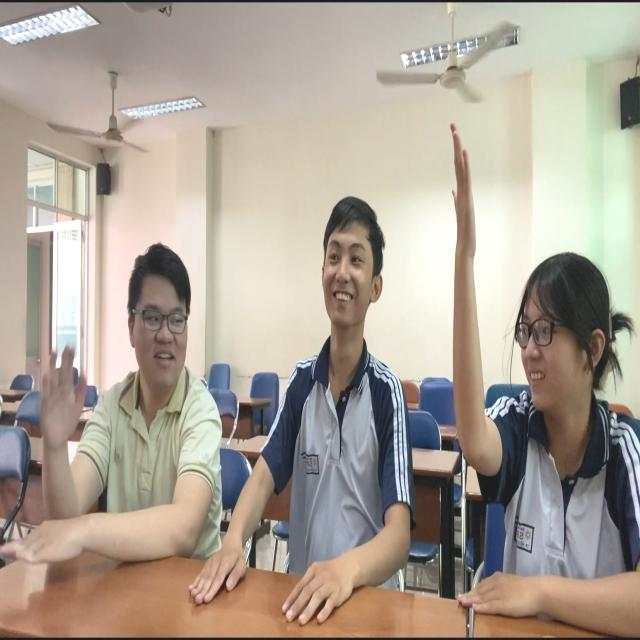raise_hand: (425, 87, 640, 640), (1, 231, 227, 620)
